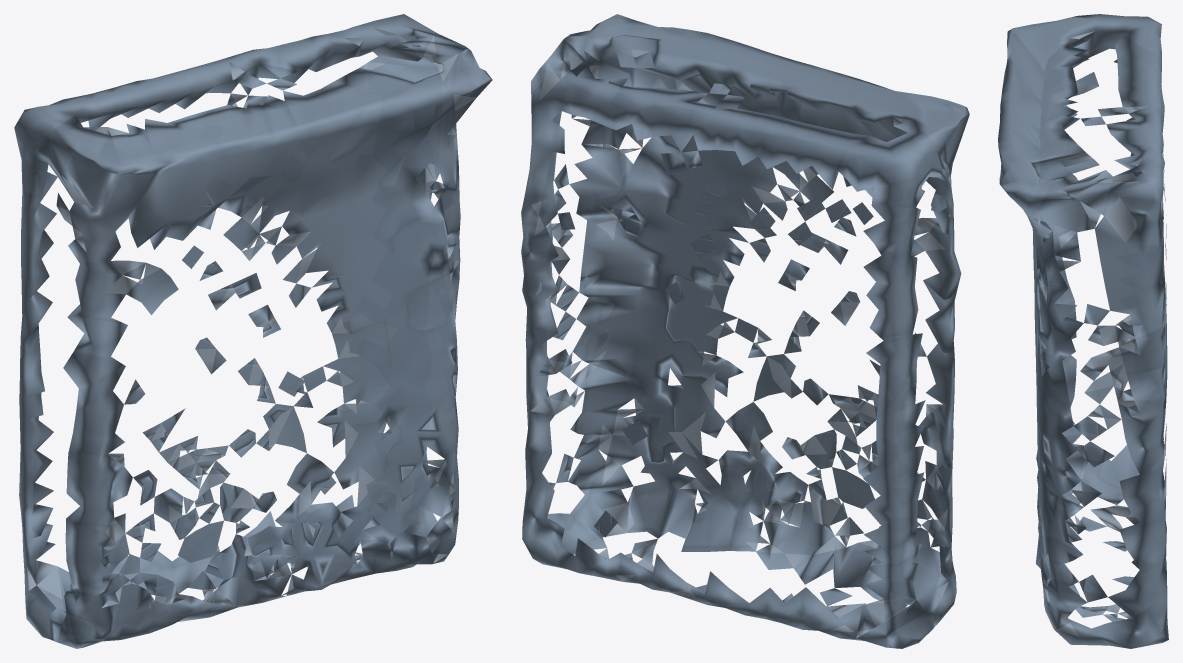
The model's file is bed_0391_recon.obj.
3 renders of one model, left to right at view 1: azimuth 30°, elevation 25°; view 2: azimuth 150°, elevation 25°; view 3: azimuth 270°, elevation 25°, orthographic. The views are drawn at different scales.
Bounding box in the file's own units: 1.18 × 1.44 × 0.4752.
